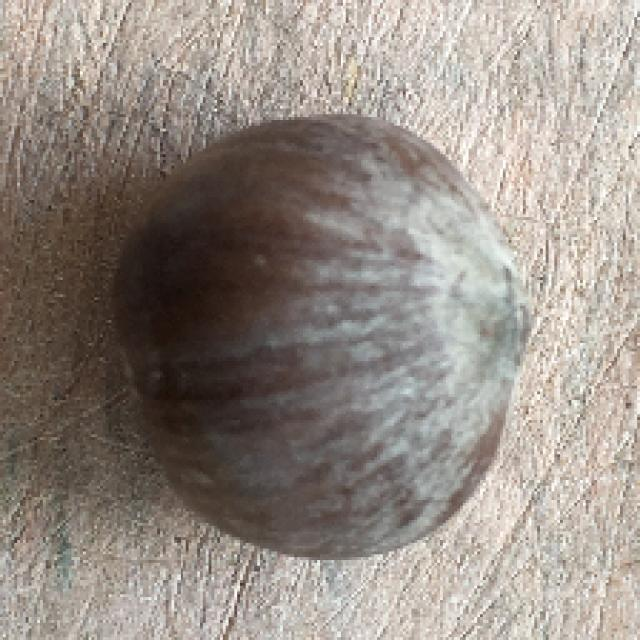damagedHazelnut: (110, 106, 535, 566)
